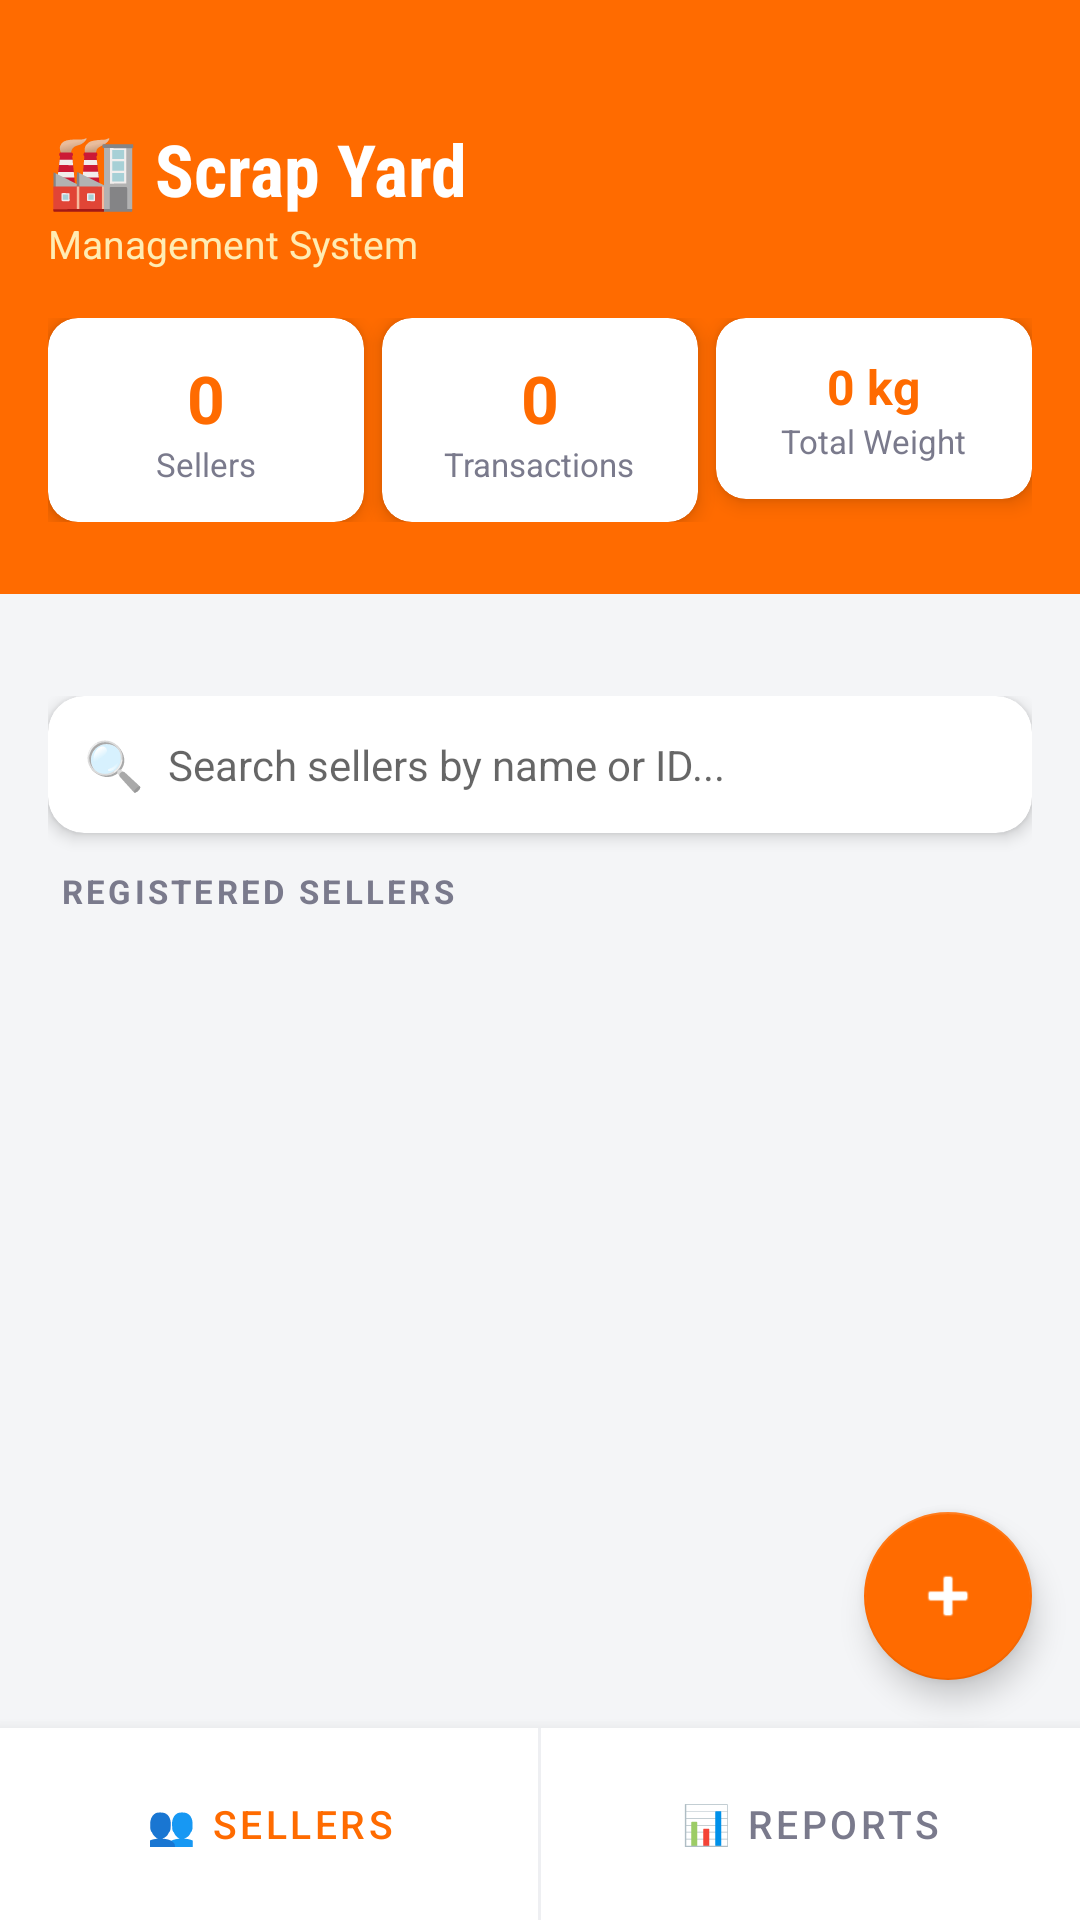

Point at icon controls on the screen. Image size 1080*1920, points as (x,y).
add: (948,1596)
